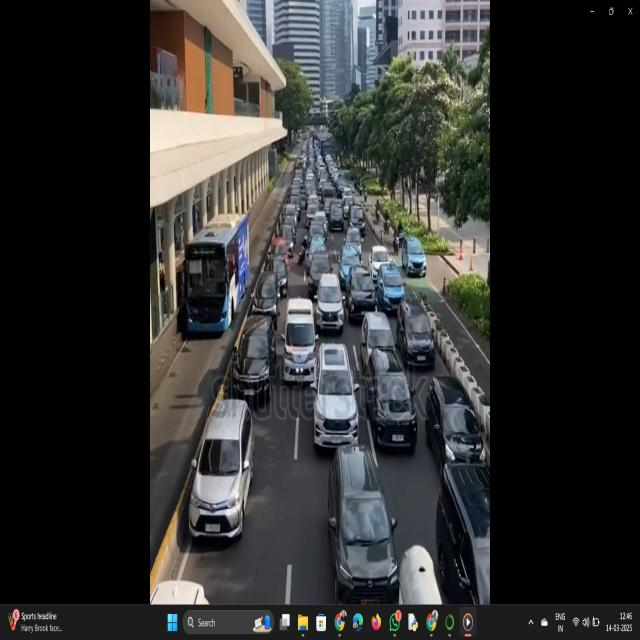Ambulance: (282, 292, 320, 383)
